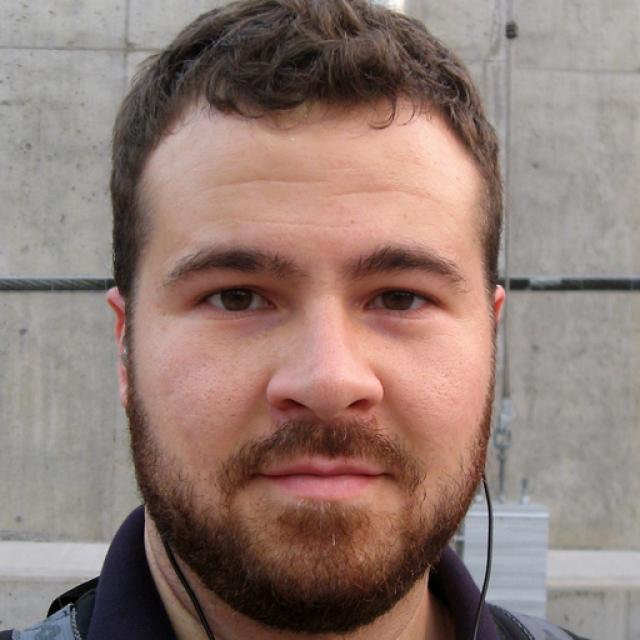Wrinkle: (212, 168, 329, 191), (231, 210, 359, 228), (329, 182, 432, 201)
